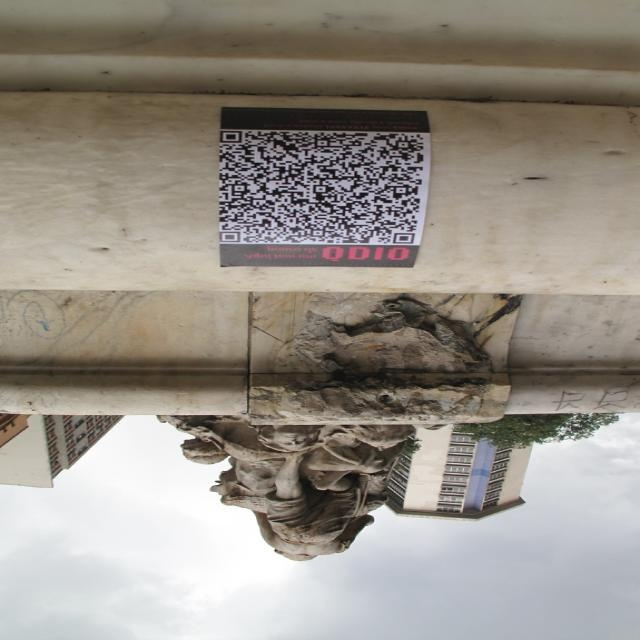qr-code: (219, 132, 423, 244)
